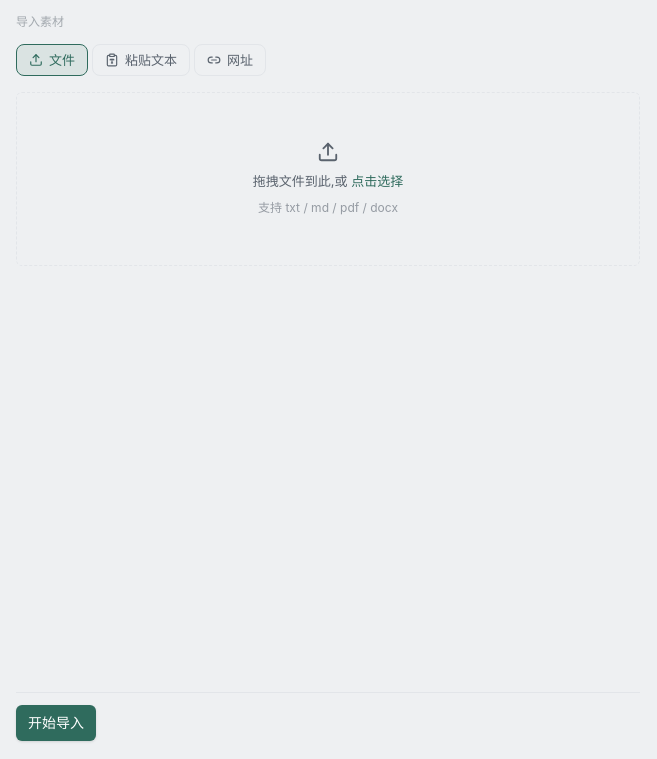
Test: 素材导入可信反馈 › 后端以待预览确认结束且 done 为布尔值时立即进入可编辑预览
Click the button "粘贴文本": (141, 60) top-left (92, 44), bottom-right (190, 76)
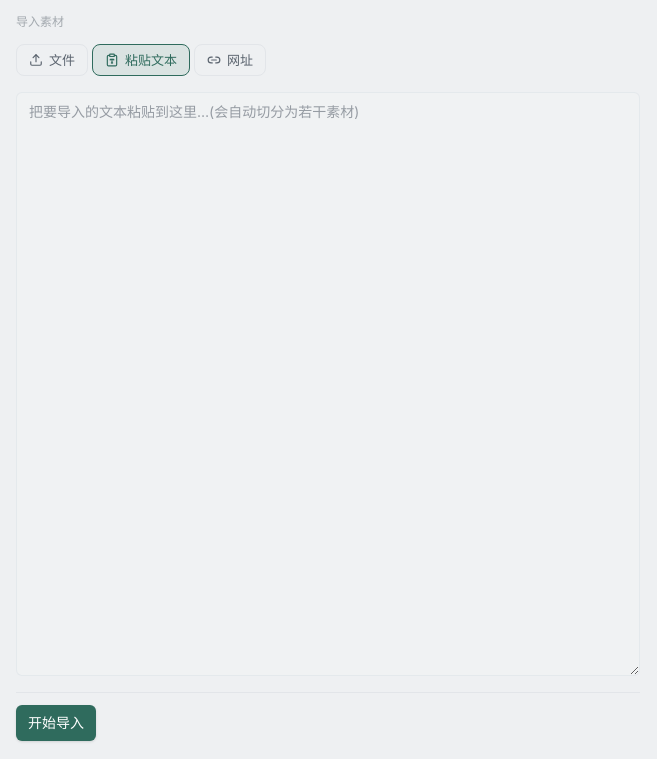
In the text box named "粘贴要导入的文本": (328, 384) top-left (16, 92), bottom-right (640, 676), type "一段素材"
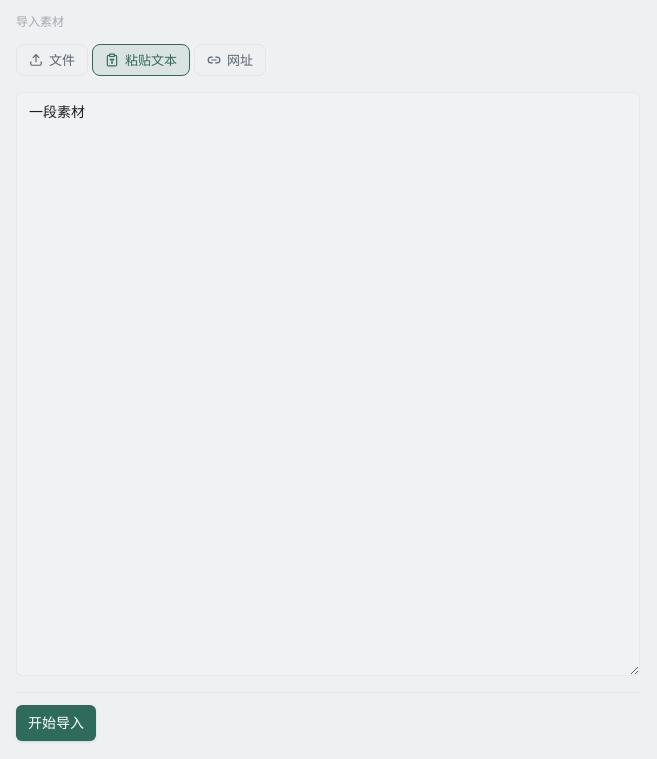
Click the button "开始导入": (56, 723) top-left (16, 705), bottom-right (96, 741)
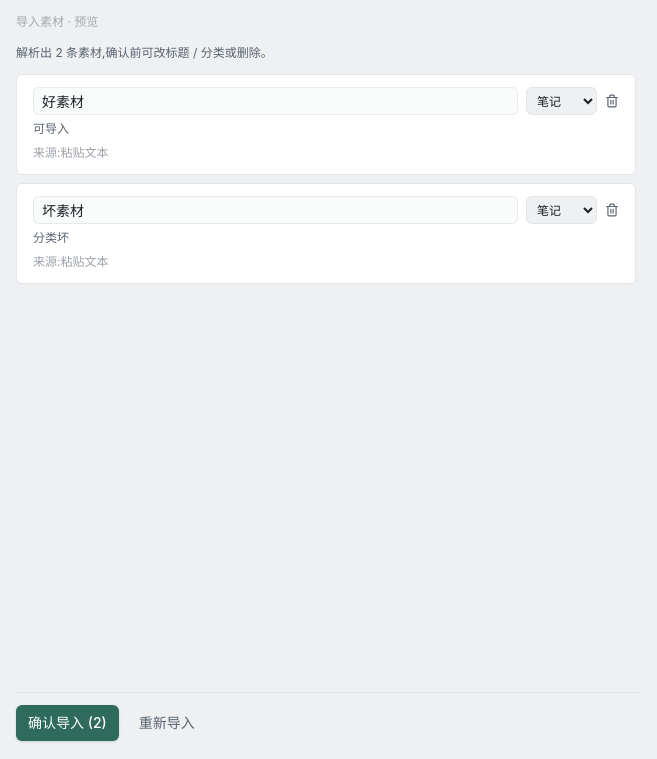
Result: the text "解析出 2 条素材,确认前可改标题 / 分类或删除。" is shown at top-left (16, 45), bottom-right (273, 60)
